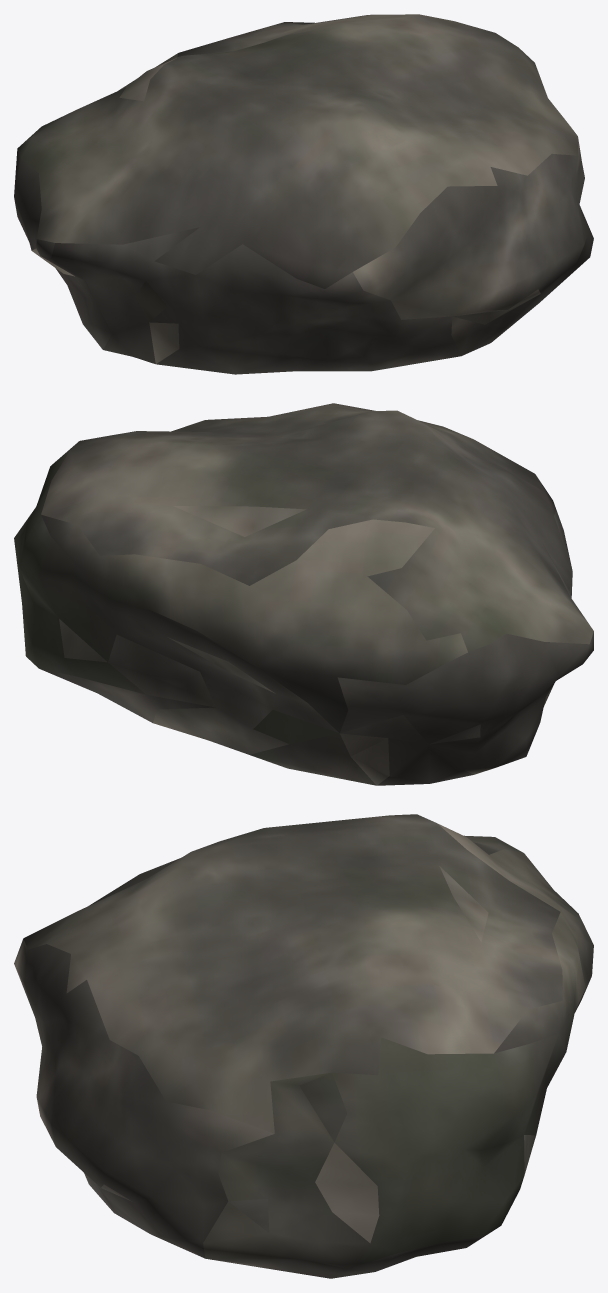
File: rock_small_01.glb
3 views of the same model, one above another, from view 1: azimuth 30°, elevation 25°; view 2: azimuth 150°, elevation 25°; view 3: azimuth 270°, elevation 25° (orthographic). The views are drawn at different scales.
Parts seen in each view (by area): view 1: rock_small_01; view 2: rock_small_01; view 3: rock_small_01.
Part boxes in pixels (bbox=[...]): rock_small_01: bbox=[14, 14, 593, 374]; rock_small_01: bbox=[14, 403, 593, 785]; rock_small_01: bbox=[14, 814, 593, 1278].
Size of what is drawn, in the model's own units: 0.6833 by 0.3084 by 0.5488.
Materials: 1 (1 with a texture image).
